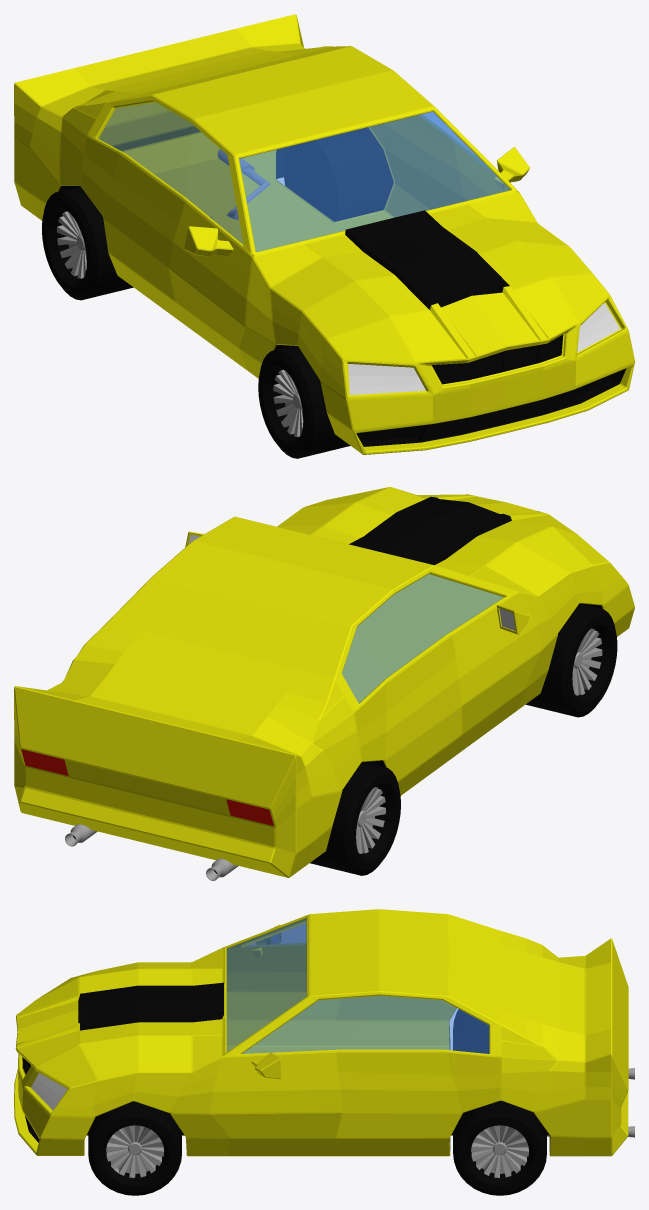
Rendered from Yellow sports car.fbx.
The picture shows the model from 3 angles, top to bottom: view 1: azimuth 30°, elevation 25°; view 2: azimuth 150°, elevation 25°; view 3: azimuth 270°, elevation 25°; orthographic projection. The views are drawn at different scales.
Parts seen in each view (by area): view 1: corps, wheel4, wheel1, wheel2, exhaust pipe; view 2: corps, wheel1, wheel2, exhaust pipe; view 3: corps, wheel4, wheel3, wheel2.
Part boxes in pixels (bbox=[...]): corps: bbox=[14, 14, 634, 454]; wheel4: bbox=[283, 127, 393, 221]; wheel1: bbox=[258, 345, 350, 458]; wheel2: bbox=[42, 186, 133, 300]; exhaust pipe: bbox=[210, 149, 270, 219]; corps: bbox=[14, 487, 634, 877]; wheel1: bbox=[526, 603, 617, 717]; wheel2: bbox=[310, 762, 400, 875]; exhaust pipe: bbox=[65, 824, 238, 880]; corps: bbox=[14, 909, 628, 1156]; wheel4: bbox=[453, 1101, 546, 1195]; wheel3: bbox=[88, 1101, 181, 1195]; wheel2: bbox=[453, 1009, 488, 1053].
Size of the model in its own units: 593 by 369 by 1132.
